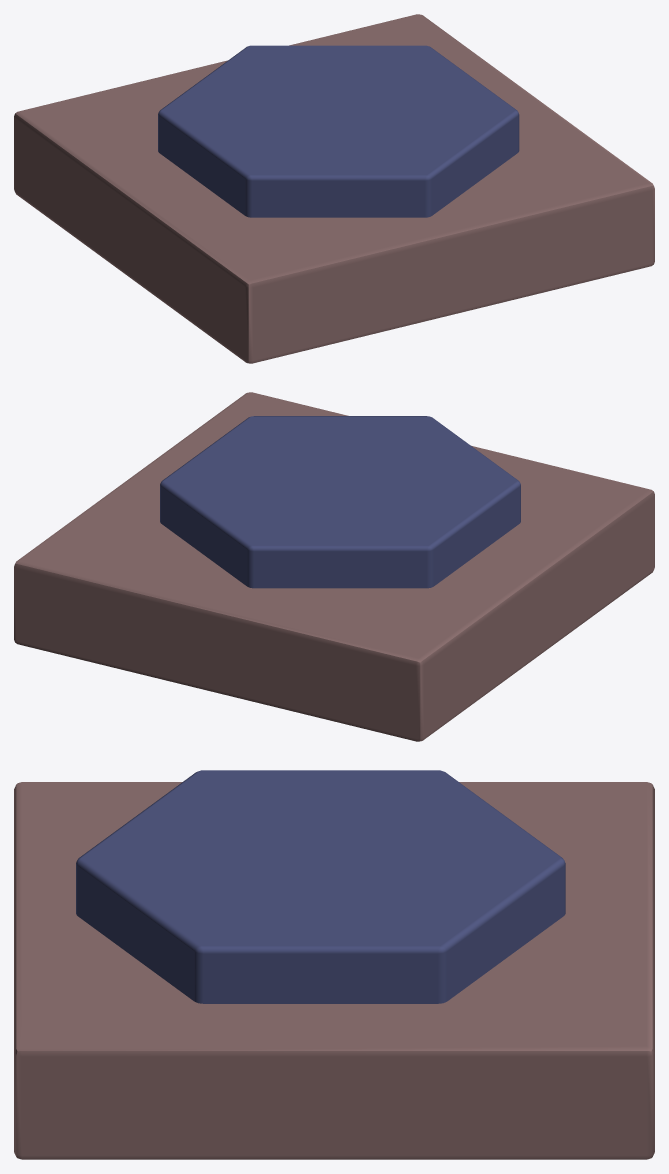
Rendered from Base Crane.fbx.
3 views of the same model, one above another, from view 1: azimuth 30°, elevation 25°; view 2: azimuth 150°, elevation 25°; view 3: azimuth 270°, elevation 25° (orthographic). The views are drawn at different scales.
Parts seen in each view (by area): view 1: Cylinder; view 2: Cylinder; view 3: Cylinder.
Boxes of the visible parts, x1,y1,x2,y2 form: Cylinder: [14, 14, 654, 363]; Cylinder: [14, 392, 654, 741]; Cylinder: [14, 770, 654, 1159].
Size of the model in its own units: 260 by 75.45 by 260.
